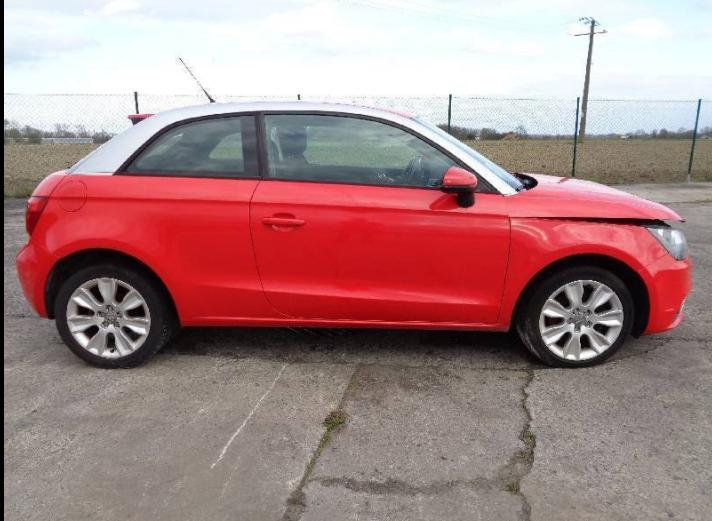Back-bumper: (15, 236, 62, 317)
Back-wheel: (54, 264, 174, 370)
Back-window: (122, 115, 259, 177)
Fender: (495, 217, 667, 324)
Front-bumper: (638, 253, 692, 335)
Front-door: (249, 111, 510, 323)
Front-wheel: (515, 267, 634, 369)
Front-window: (264, 115, 462, 191)
Headlight: (643, 225, 690, 260)
Hood: (502, 173, 685, 222)
Mirror: (441, 166, 477, 208)
Quarter-panel: (31, 173, 295, 319)
Rocker-panel: (179, 319, 510, 332)
Roof: (158, 100, 416, 126)
Tail-light: (24, 196, 49, 237)
Windshield: (411, 113, 524, 191)
